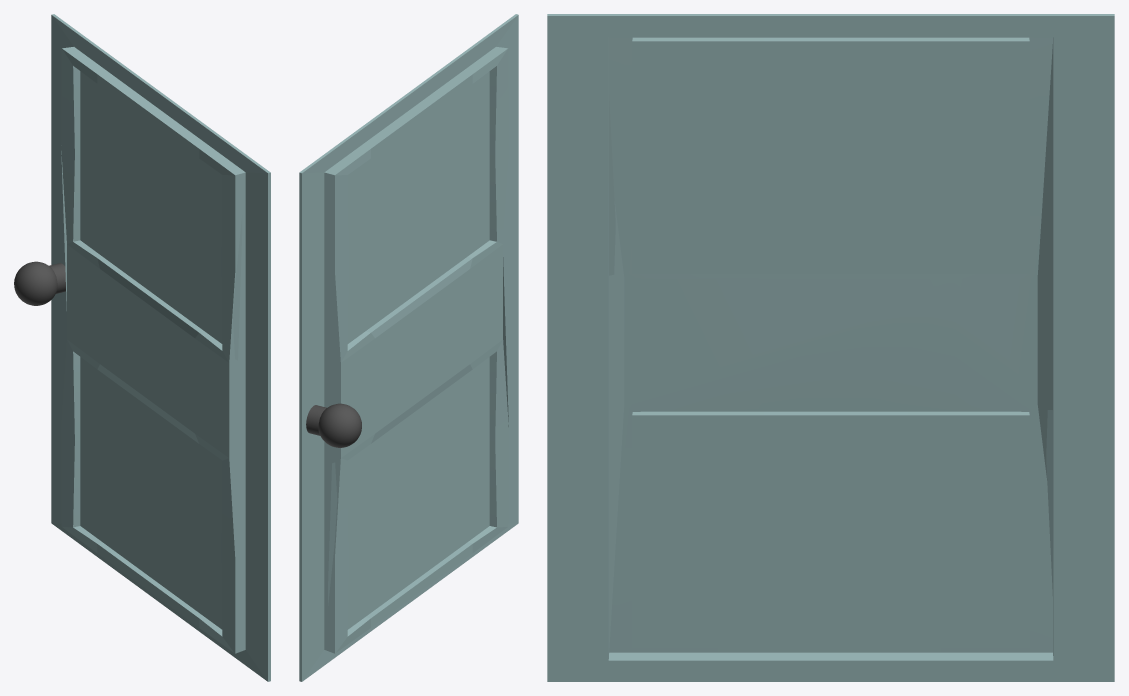
The model's file is LeftDoorOfTvStand.fbx.
The picture shows the model from 3 angles, left to right: view 1: azimuth 30°, elevation 25°; view 2: azimuth 150°, elevation 25°; view 3: azimuth 270°, elevation 25°; orthographic projection. The views are drawn at different scales.
Parts seen in each view (by area): view 1: Cube.007, Cube.003; view 2: Cube.007, Cube.003; view 3: Cube.007.
Part boxes in pixels (x1,y1,x2,y2): Cube.007: (51,14,270,681); Cube.003: (14,261,65,305); Cube.007: (299,14,518,681); Cube.003: (306,403,361,447); Cube.007: (547,14,1114,681).
Size of the model in its own units: 5.07 by 50.67 by 39.13.
